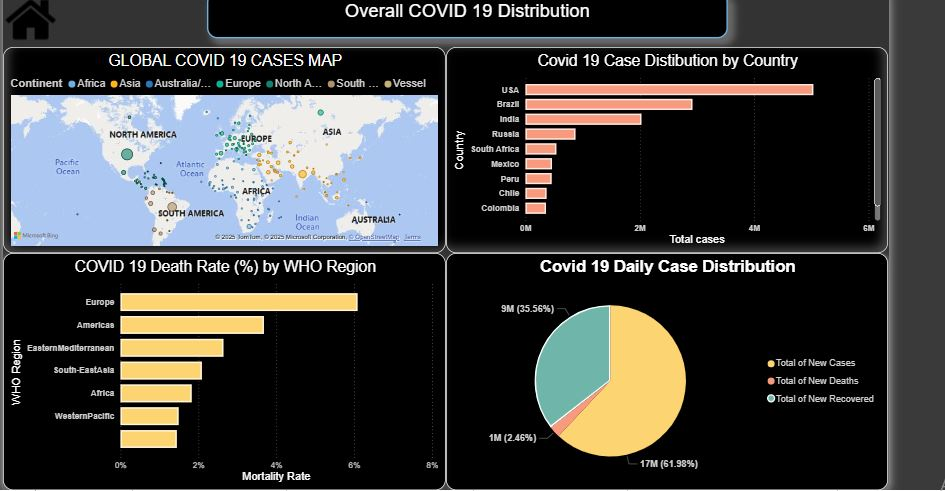

This screenshot's page, from the dashboard's own definition file:
{"tool":"powerbi","page":{"name":"Overall COVID Distribution","canvas":[1280,720],"ordinal":2},"visuals":[{"type":"pieChart","title":"Covid 19 Daily Case Distribution","fields":{"Y":["Sum(Full_grouped.New cases)","Sum(Full_grouped.New deaths)","Sum(Full_grouped.New recovered)"]},"box":[640.5,377.3,639,342.7],"z":0},{"type":"barChart","title":"COVID 19 Death Rate (%) by WHO Region","fields":{"Category":["Worldometer.WHO Region"],"Y":["Country Wise.Mortality Rate"]},"box":[0,377.3,640.5,342.7],"z":1000},{"type":"map","title":"GLOBAL COVID 19  CASES MAP","fields":{"Category":["Worldometer.Country"],"Size":["Sum(Worldometer.Total_cases)"],"Series":["Worldometer.Continent"]},"box":[0,79.5,640.5,297.8],"z":2000},{"type":"barChart","title":"Covid 19 Case Distibution by Country","fields":{"Category":["Worldometer.Country"],"Y":["Sum(Worldometer.Total_cases)"]},"box":[640.5,79.5,639,297.8],"z":3000},{"type":"textbox","box":[294.9,0,753.3,66.5],"z":4000},{"type":"actionButton","box":[0,0,96.9,80],"z":5000}]}

Visuals, with their boxes on the page's 1280x720 design canvas (x1, y1, x2, y2). These are canvas units, not pixel positions in the 945x491 screenshot, which may show the page scaled, cropped or inside an application window:
"Covid 19 Daily Case Distribution" pieChart: region(640, 377, 1280, 720)
"COVID 19 Death Rate (%) by WHO Region" barChart: region(0, 377, 640, 720)
"GLOBAL COVID 19  CASES MAP" map: region(0, 80, 640, 377)
"Covid 19 Case Distibution by Country" barChart: region(640, 80, 1280, 377)
textbox: region(295, 0, 1048, 66)
actionButton: region(0, 0, 97, 80)
